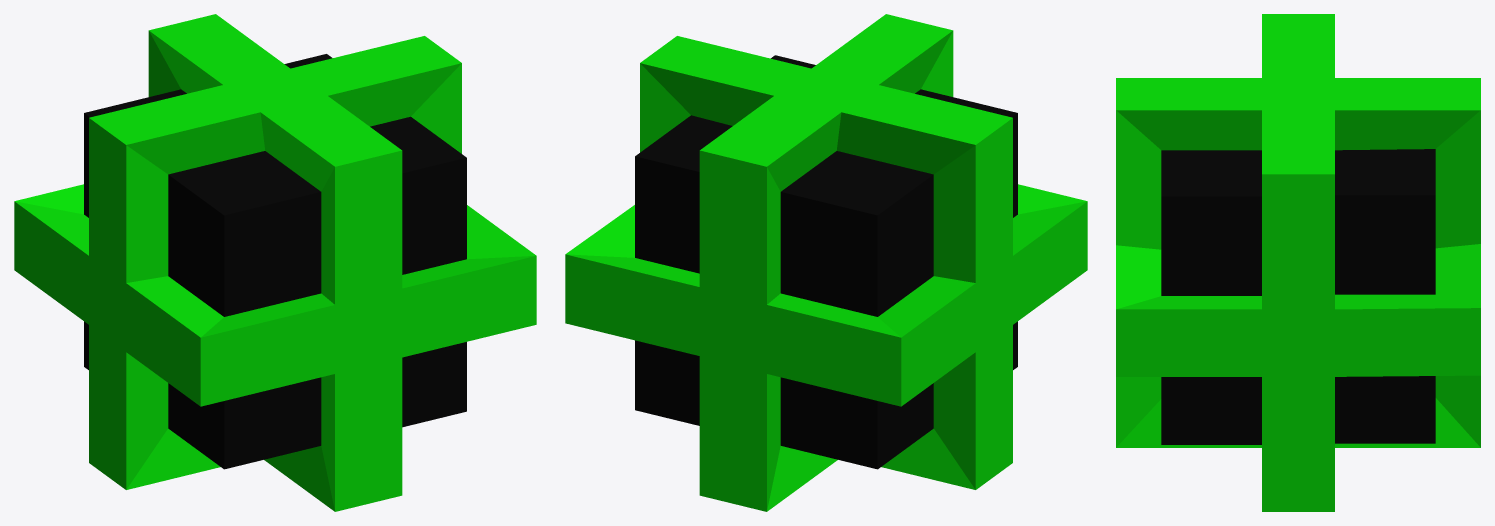
File: pickup_health_roberto.fbx
3 views of the same model, side by side, from view 1: azimuth 30°, elevation 25°; view 2: azimuth 150°, elevation 25°; view 3: azimuth 270°, elevation 25° (orthographic). The views are drawn at different scales.
Parts seen in each view (by area): view 1: pCube54; view 2: pCube54; view 3: pCube54.
Boxes of the visible parts, <box> form: pCube54: <box>14,14,536,511</box>; pCube54: <box>565,14,1087,511</box>; pCube54: <box>1116,14,1480,511</box>.
Bounding box in the file's own units: 1.38 × 1.36 × 1.33.
